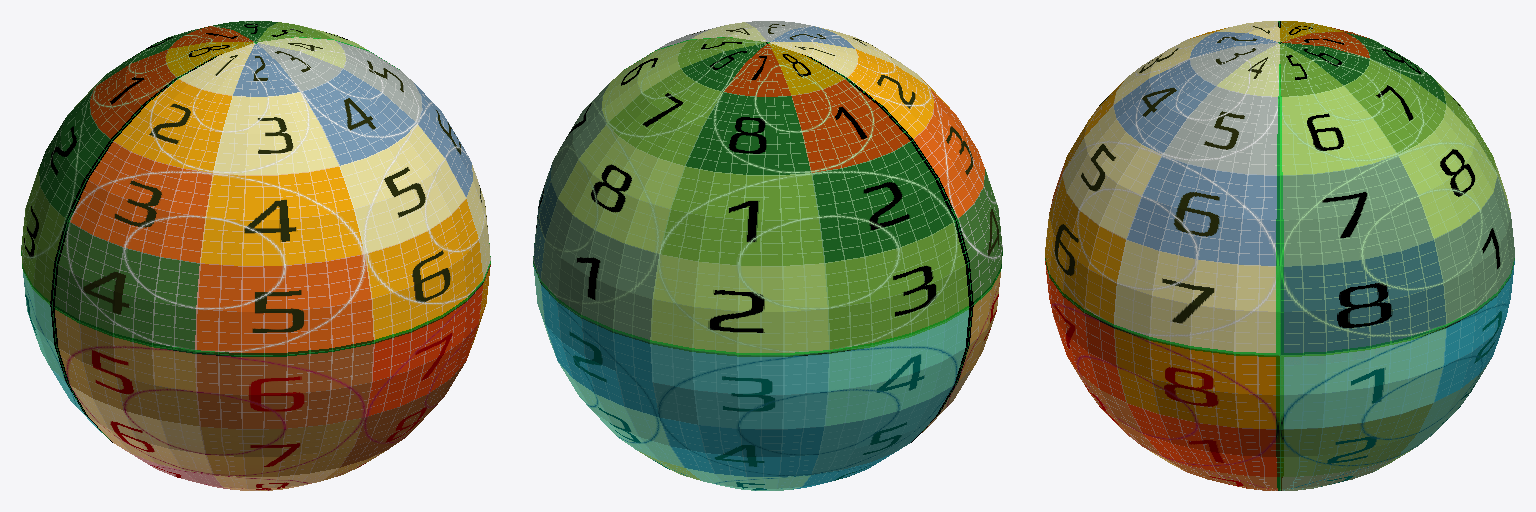
3 views of the same model, side by side, from view 1: azimuth 30°, elevation 25°; view 2: azimuth 150°, elevation 25°; view 3: azimuth 270°, elevation 25° (orthographic).
Parts seen in each view (by area): view 1: Sphere; view 2: Sphere; view 3: Sphere.
Boxes of the visible parts, x1,y1,x2,y2 form: Sphere: [21, 21, 490, 490]; Sphere: [533, 21, 1002, 490]; Sphere: [1045, 21, 1514, 490].
Bounding box in the file's own units: 2 × 2 × 2.
Materials: 1 (1 with a texture image).